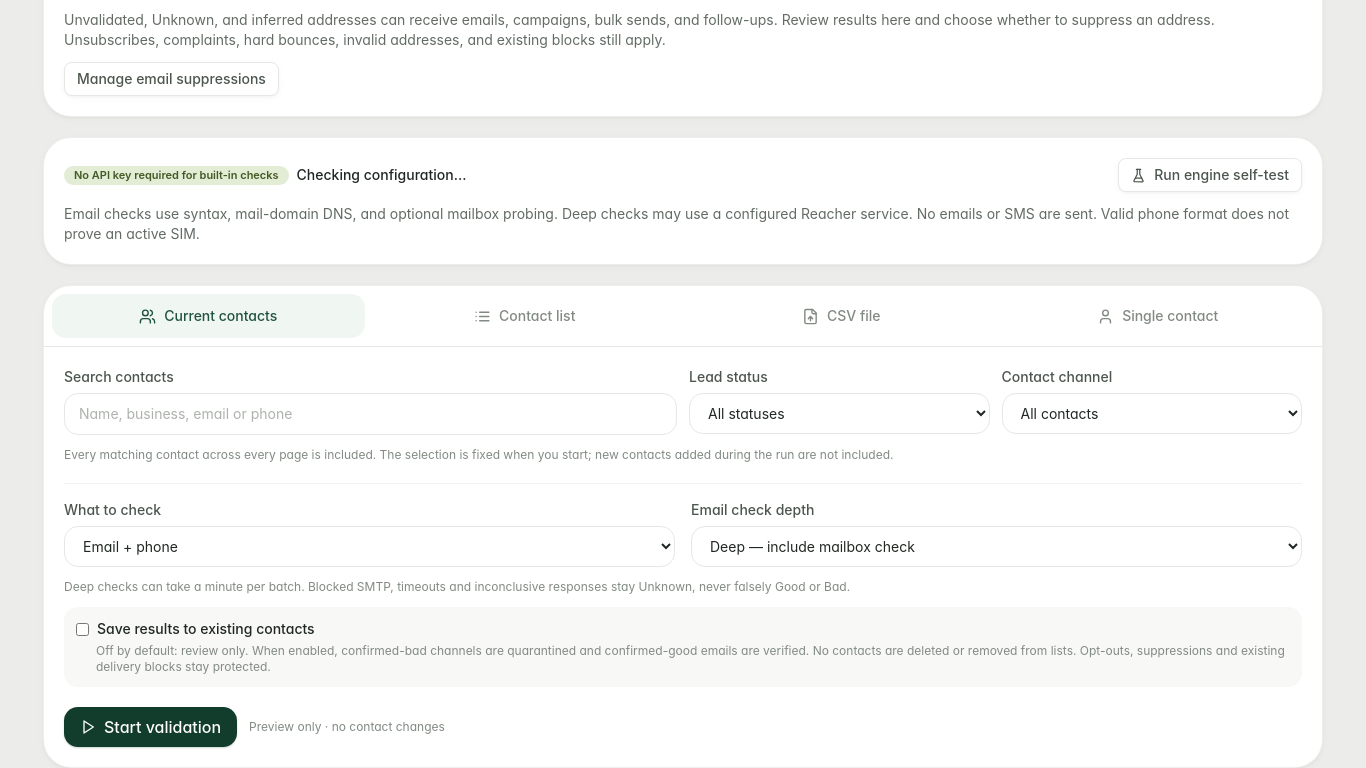
Test: Validator workspace › preserves results on error and resumes exactly the unfinished batch
(page scrolled)
Click the button "Start validation": (151, 727) x1=64 y1=707 x2=237 y2=747
(page scrolled)
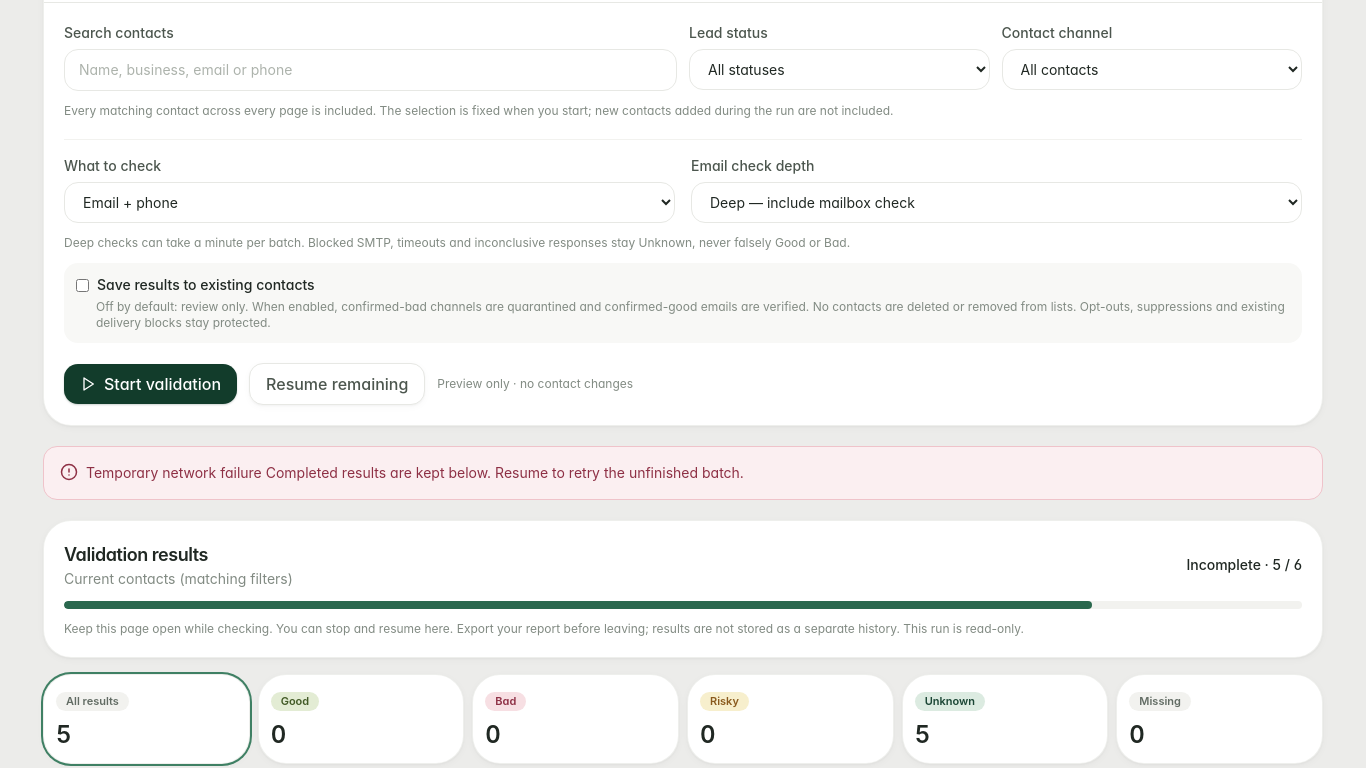
Expected: the text "Incomplete · 5 / 6" is shown, x1=1186 y1=555 x2=1302 y2=575
Expected: the message that starts with "Temporary network failure" is shown, x1=86 y1=464 x2=262 y2=481
Click the button "Resume remaining": (337, 384) x1=249 y1=363 x2=425 y2=405
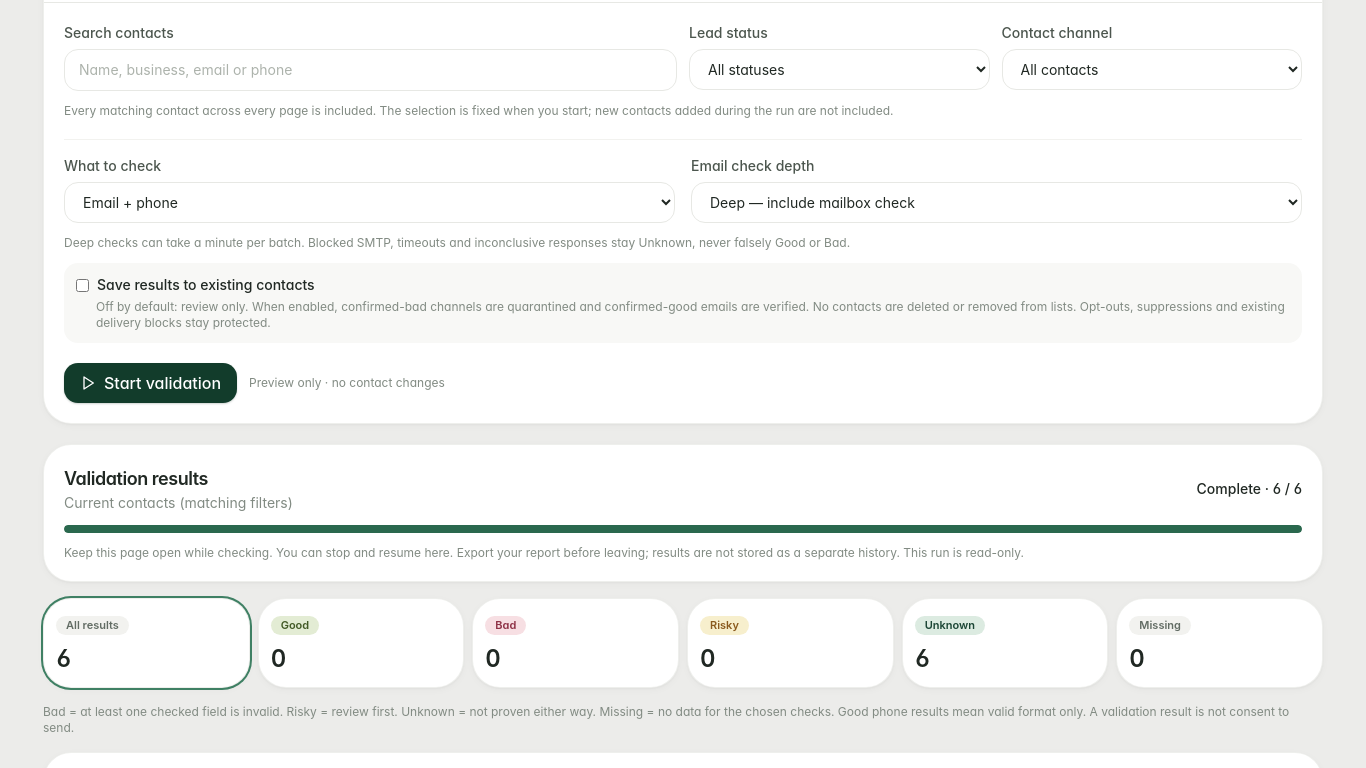
Expected: the text "Complete · 6 / 6" is shown, x1=1197 y1=479 x2=1302 y2=499
